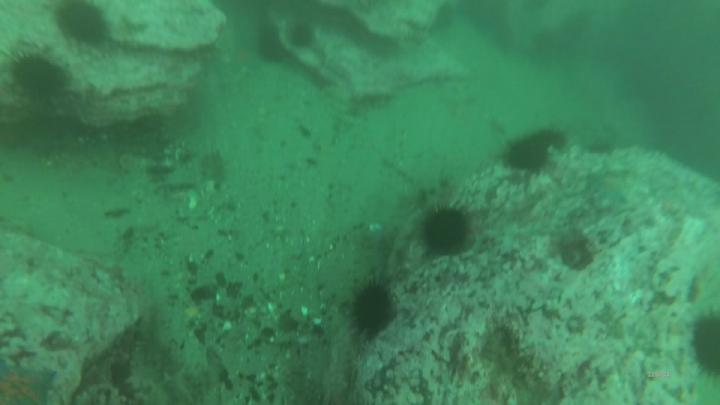echinus: (350, 284, 395, 338), (55, 1, 109, 46), (422, 208, 471, 257), (13, 54, 65, 99), (508, 141, 548, 175), (256, 34, 288, 63), (290, 23, 316, 48)
scallop: (696, 318, 720, 373)
starfish: (2, 366, 52, 405)
